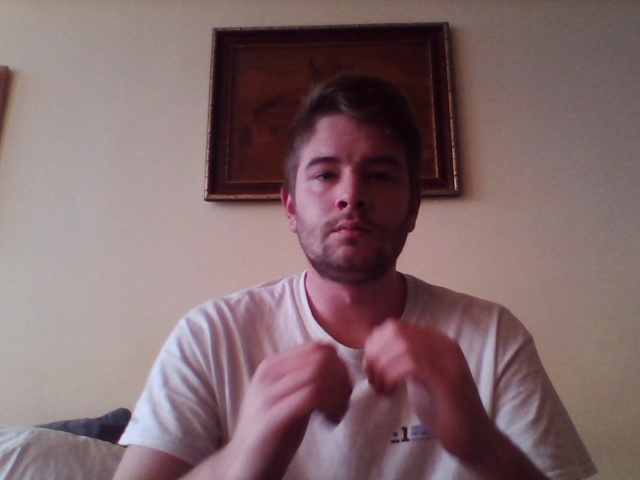kako: (229, 312, 488, 480)
